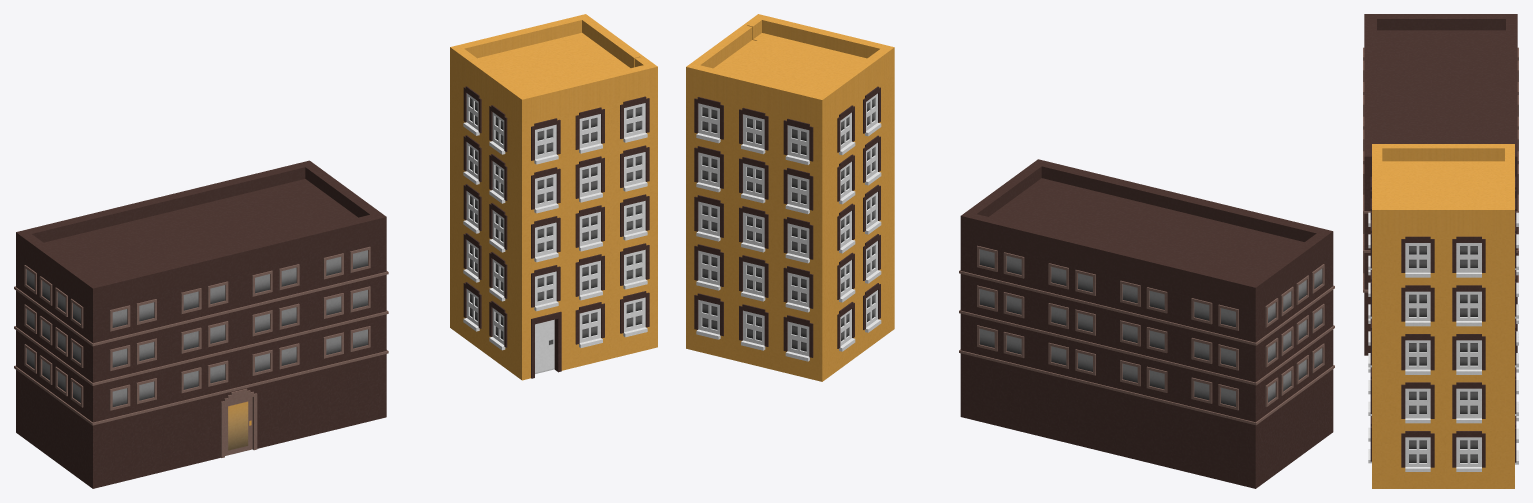
The model's file is City_08.fbx.
The picture shows the model from 3 angles, left to right: view 1: azimuth 30°, elevation 25°; view 2: azimuth 150°, elevation 25°; view 3: azimuth 270°, elevation 25°; orthographic projection.
Visible parts, largest first — view 1: Building_16, Building_17; view 2: Building_16, Building_17; view 3: Building_17, Building_16.
Boxes of the visible parts, x1,y1,x2,y2 form: Building_16: (14,160,388,488); Building_17: (450,14,657,380); Building_16: (959,159,1334,488); Building_17: (686,14,894,381); Building_17: (1368,144,1518,488); Building_16: (1363,14,1518,355).
Bounding box in the file's own units: 515 × 241 × 122.
